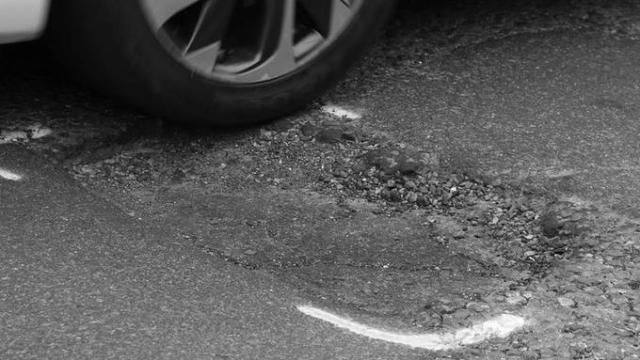Pothole: (22, 92, 586, 336)
